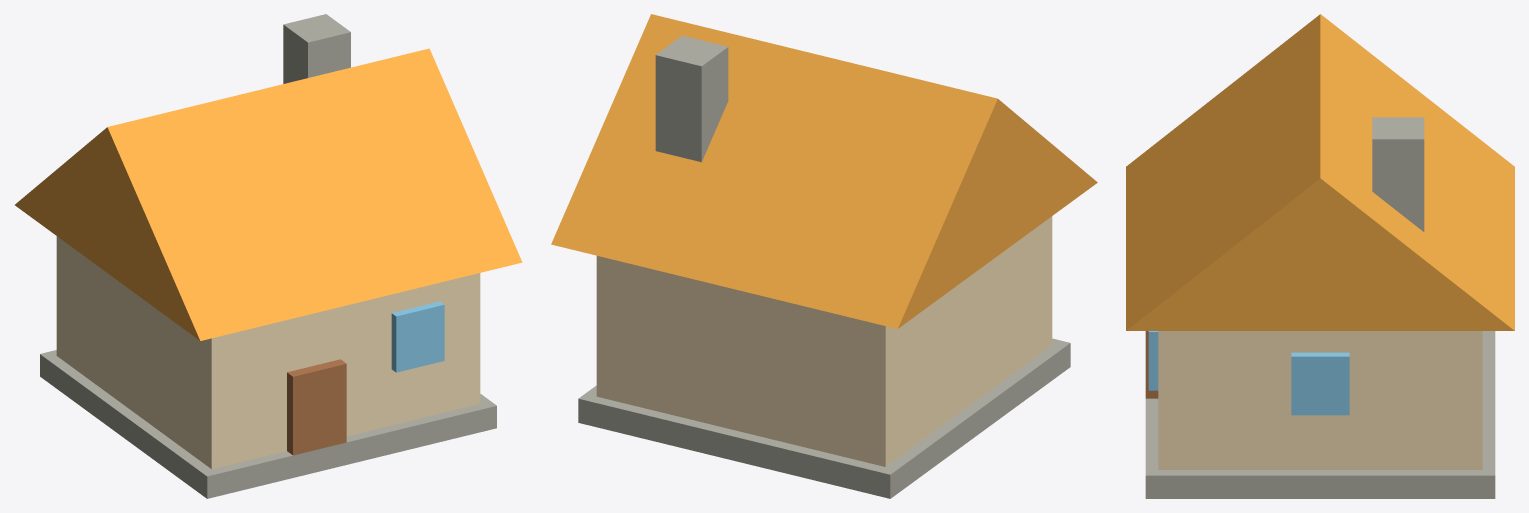
File: house_t1_v1.glb
3 renders of one model, left to right at view 1: azimuth 30°, elevation 25°; view 2: azimuth 150°, elevation 25°; view 3: azimuth 270°, elevation 25°, orthographic. The views are drawn at different scales.
Visible parts, largest first — view 1: house_t1_v1; view 2: house_t1_v1; view 3: house_t1_v1.
Boxes of the visible parts, x1,y1,x2,y2 form: house_t1_v1: (15, 14, 522, 498); house_t1_v1: (551, 14, 1097, 498); house_t1_v1: (1126, 14, 1514, 498).
Size of the model in its own units: 0.6 by 0.58 by 0.6.
1 material, 1 textured.
